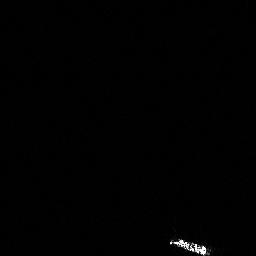ship: (171, 237, 207, 254)
